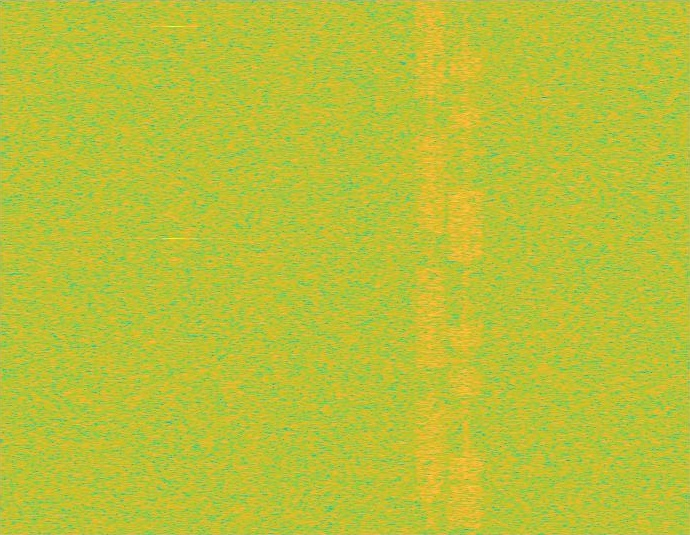5G: (414, 0, 449, 534)
DSSS: (427, 0, 435, 534), (462, 0, 470, 534)
LTE: (449, 0, 483, 534)
Radar: (167, 0, 181, 534)
